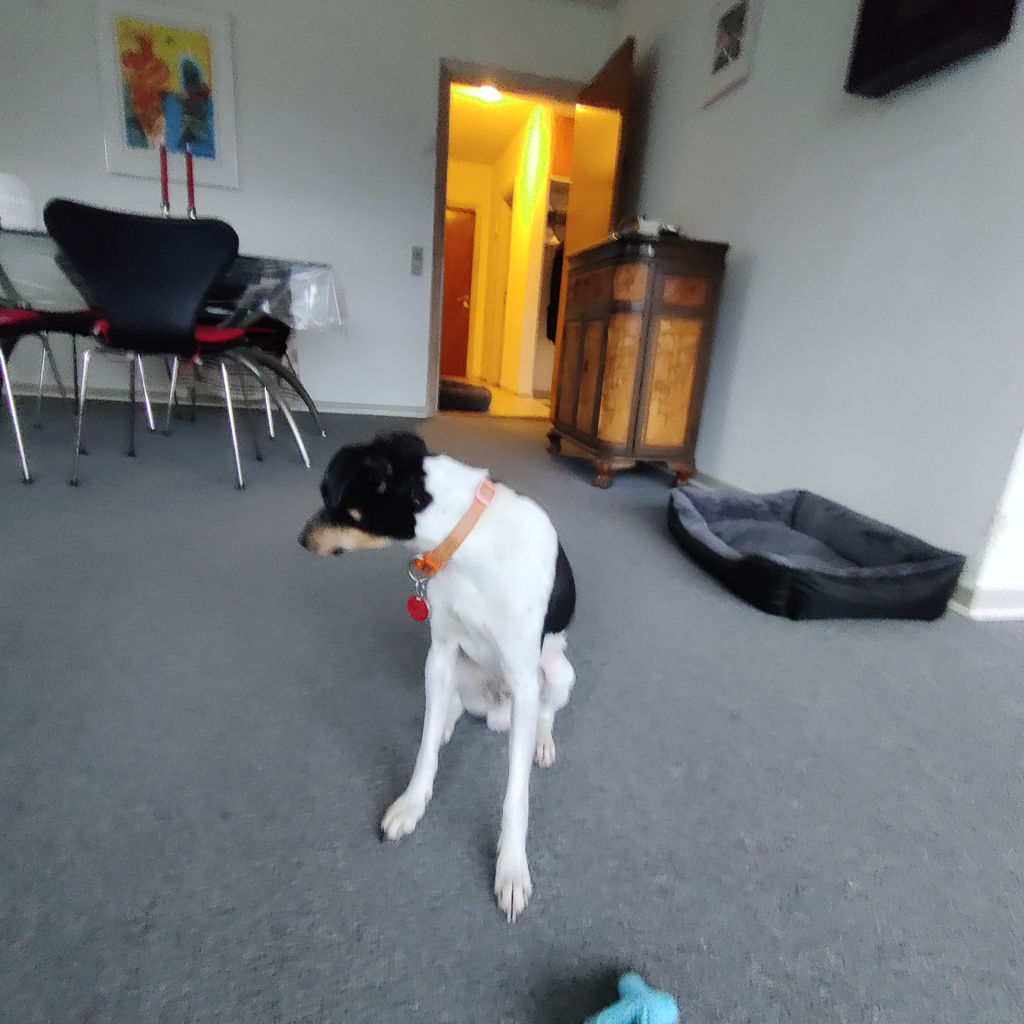Dog: (278, 418, 605, 943)
